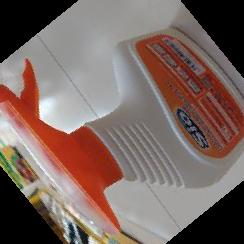sio: (1, 27, 244, 233)
